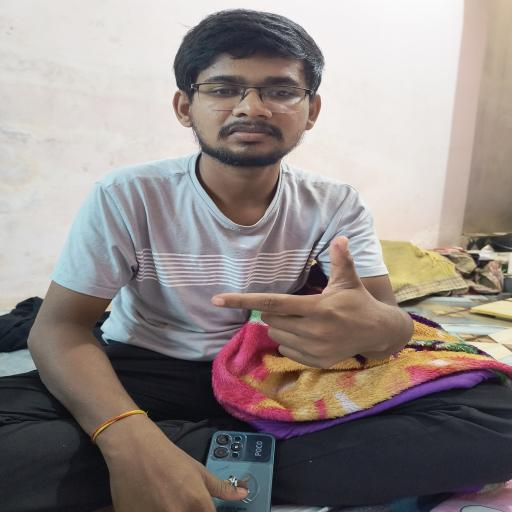OK: (205, 233, 424, 375)
